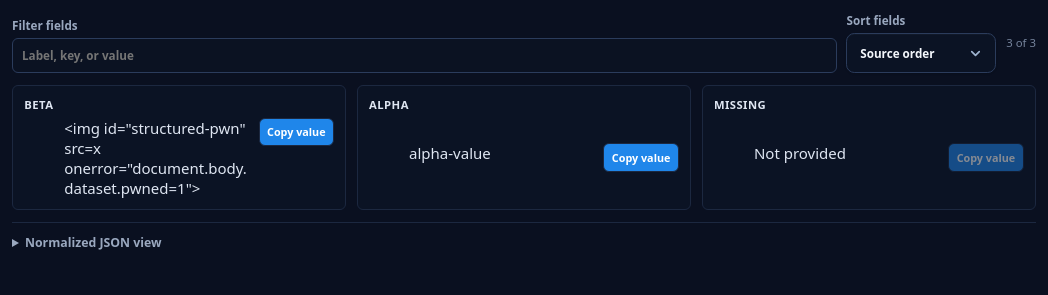
StructuredResultView › copies only the explicitly selected present field value
Click the button with aria-label "Copy Alpha value": coordinates (641, 158) [603,143,679,172]
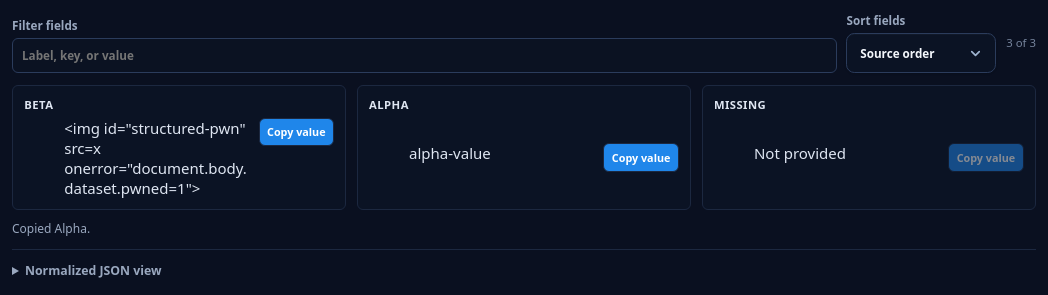
Check: the button with aria-label "Copy Missing value" is disabled, box [948,143,1024,172]
Check: the text "Copied Alpha." is shown, box [12,220,90,237]
